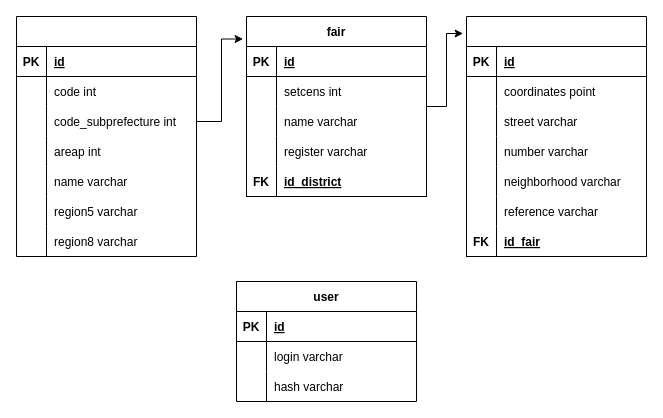
Some shapes in this 663 by 418 pixel diagram are drawn without their labels. Here are the shapes that lost their labels. From the top down, the box of each, then its label:
(16, 16, 196, 256): district
(466, 16, 646, 256): address
